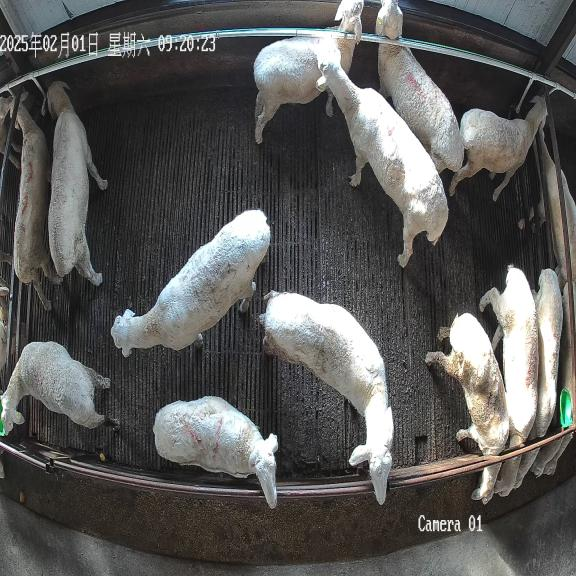eating: (425, 313, 511, 504), (479, 264, 538, 496), (513, 268, 563, 488)
stand: (316, 38, 448, 267), (263, 291, 394, 504), (111, 210, 270, 356), (253, 0, 364, 144), (376, 0, 464, 174), (154, 396, 278, 504), (47, 81, 107, 285), (9, 89, 62, 311), (449, 97, 547, 201), (0, 342, 110, 434)
